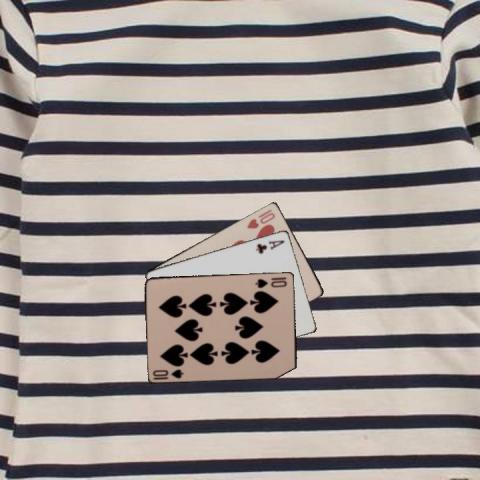10h: (244, 206, 277, 230)
10s: (253, 276, 289, 289), (150, 366, 185, 379)
Ac: (253, 236, 286, 255)
